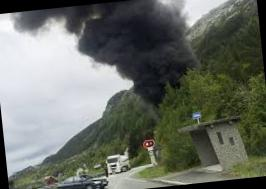Smoke: (60, 0, 212, 113)
